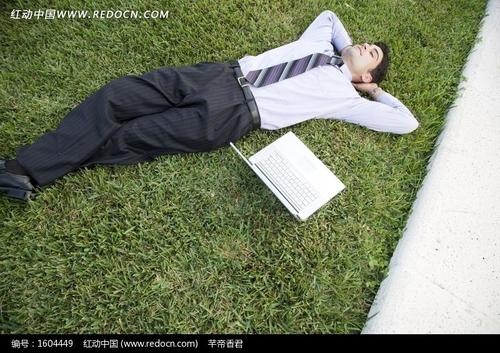falling: (15, 1, 420, 206)
